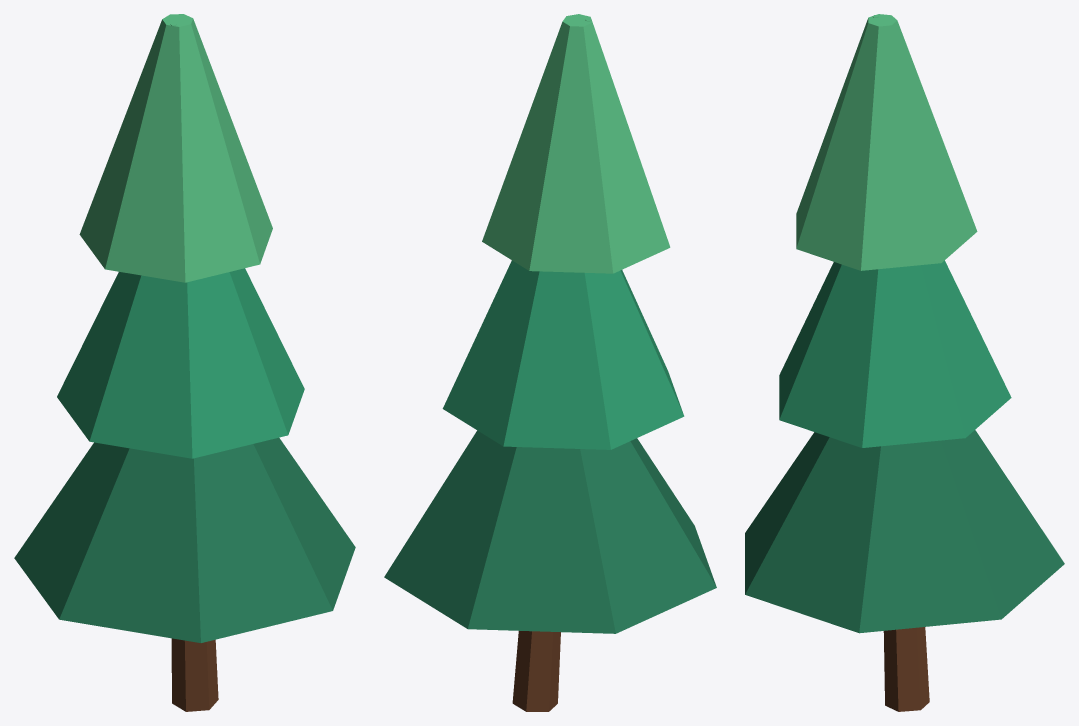
Rendered from sapling_c.glb.
3 views of the same model, side by side, from view 1: azimuth 30°, elevation 25°; view 2: azimuth 150°, elevation 25°; view 3: azimuth 270°, elevation 25° (orthographic). The views are drawn at different scales.
Visible parts, largest first — view 1: SaplingC; view 2: SaplingC; view 3: SaplingC.
Part boxes in pixels (bbox=[...]): SaplingC: bbox=[14, 14, 355, 711]; SaplingC: bbox=[384, 14, 716, 711]; SaplingC: bbox=[745, 14, 1064, 711].
Bounding box in the file's own units: 1.1 × 2.47 × 1.07.
